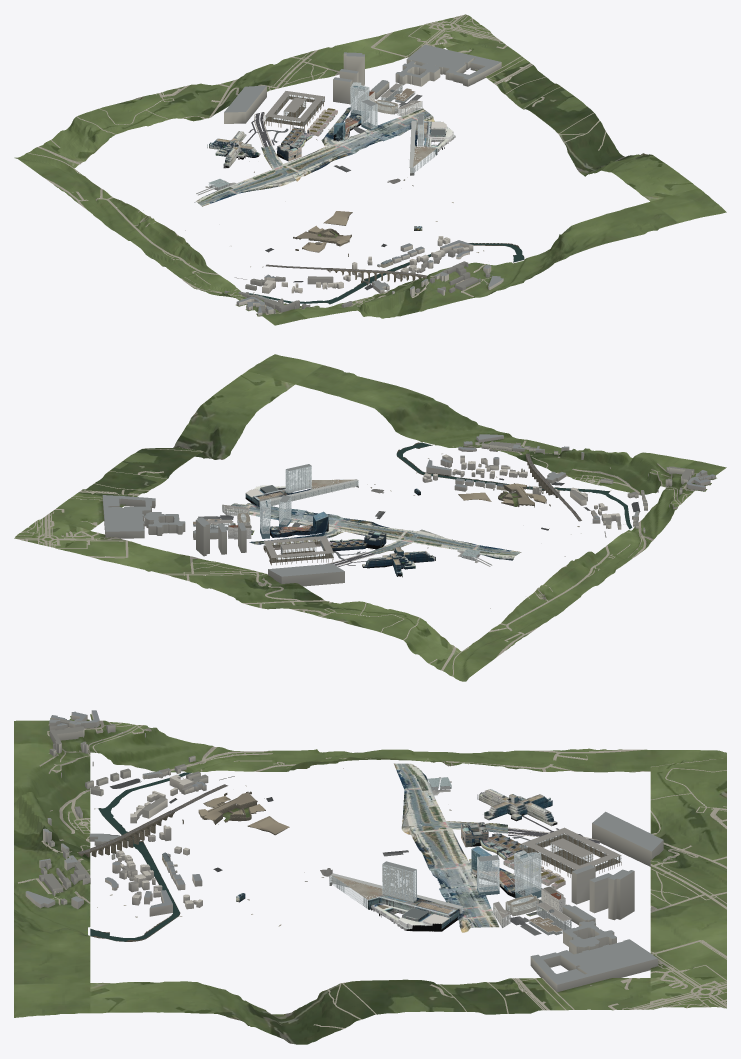
File: authored-district.glb
3 views of the same model, one above another, from view 1: azimuth 30°, elevation 25°; view 2: azimuth 150°, elevation 25°; view 3: azimuth 270°, elevation 25° (orthographic). The views are drawn at different scales.
Parts seen in each view (by area): view 1: R182_EXTENSION_GROUND, R182_DISTRICT_48993285, R168_SOURCE_JUNCTION, R182_EXTENSION_ROADS, R201_NOVOTEL_SUITES, R300_DISTRICT_58609207, R162_MEASURED_ENVELOPE, R181_CLOSED_TRIANGLE_COURT, R255_A_FLOOR_BANDS, R164_MEASURED_ENVELOPE, R187_OUTER_BASTIONS, R202_ALZETTE_00 (+2 smaller); view 2: R182_EXTENSION_GROUND, R182_DISTRICT_48993285, R182_EXTENSION_ROADS, R201_NOVOTEL_SUITES, R168_SOURCE_JUNCTION, R300_DISTRICT_58609207, R162_MEASURED_ENVELOPE, R164_MEASURED_ENVELOPE, R255_A_FLOOR_BANDS, R181_CLOSED_TRIANGLE_COURT, R202_ALZETTE_00, R176_ANNEAU (+1 smaller); view 3: R182_EXTENSION_GROUND, R182_DISTRICT_48993285, R182_EXTENSION_ROADS, R168_SOURCE_JUNCTION, R201_NOVOTEL_SUITES, R300_DISTRICT_58609207, R162_MEASURED_ENVELOPE, R255_A_FLOOR_BANDS, R181_CLOSED_TRIANGLE_COURT, R166_MEASURED_ENVELOPE, R164_MEASURED_ENVELOPE, R202_ALZETTE_00 (+5 smaller).
Part boxes in pixels (bbox=[...]): R182_EXTENSION_GROUND: bbox=[14, 14, 726, 325]; R182_DISTRICT_48993285: bbox=[224, 44, 503, 314]; R168_SOURCE_JUNCTION: bbox=[194, 107, 434, 206]; R182_EXTENSION_ROADS: bbox=[27, 14, 606, 314]; R201_NOVOTEL_SUITES: bbox=[209, 82, 436, 189]; R300_DISTRICT_58609207: bbox=[236, 236, 473, 316]; R162_MEASURED_ENVELOPE: bbox=[207, 127, 313, 168]; R181_CLOSED_TRIANGLE_COURT: bbox=[293, 212, 524, 304]; R255_A_FLOOR_BANDS: bbox=[350, 82, 423, 145]; R164_MEASURED_ENVELOPE: bbox=[277, 114, 364, 161]; R187_OUTER_BASTIONS: bbox=[297, 211, 352, 252]; R202_ALZETTE_00: bbox=[249, 243, 524, 303]; R182_EXTENSION_GROUND: bbox=[14, 354, 726, 681]; R182_DISTRICT_48993285: bbox=[102, 434, 708, 586]; R182_EXTENSION_ROADS: bbox=[15, 440, 696, 676]; R201_NOVOTEL_SUITES: bbox=[193, 466, 480, 562]; R168_SOURCE_JUNCTION: bbox=[227, 503, 521, 560]; R300_DISTRICT_58609207: bbox=[422, 446, 715, 523]; R162_MEASURED_ENVELOPE: bbox=[328, 539, 435, 577]; R164_MEASURED_ENVELOPE: bbox=[269, 511, 386, 549]; R255_A_FLOOR_BANDS: bbox=[260, 464, 311, 533]; R181_CLOSED_TRIANGLE_COURT: bbox=[397, 442, 616, 507]; R202_ALZETTE_00: bbox=[396, 442, 632, 529]; R176_ANNEAU: bbox=[263, 539, 333, 565]; R182_EXTENSION_GROUND: bbox=[14, 720, 726, 1044]; R182_DISTRICT_48993285: bbox=[25, 718, 663, 992]; R182_EXTENSION_ROADS: bbox=[18, 720, 726, 1028]; R168_SOURCE_JUNCTION: bbox=[394, 763, 542, 932]; R201_NOVOTEL_SUITES: bbox=[330, 778, 621, 935]; R300_DISTRICT_58609207: bbox=[51, 710, 206, 916]; R162_MEASURED_ENVELOPE: bbox=[477, 789, 557, 860]; R255_A_FLOOR_BANDS: bbox=[382, 850, 541, 901]; R181_CLOSED_TRIANGLE_COURT: bbox=[78, 773, 289, 941]; R166_MEASURED_ENVELOPE: bbox=[329, 875, 462, 931]; R164_MEASURED_ENVELOPE: bbox=[461, 822, 528, 897]; R202_ALZETTE_00: bbox=[90, 772, 191, 941].
Size of the model in its own units: 1428 by 182 by 1400.
62 materials, 10 textured.
